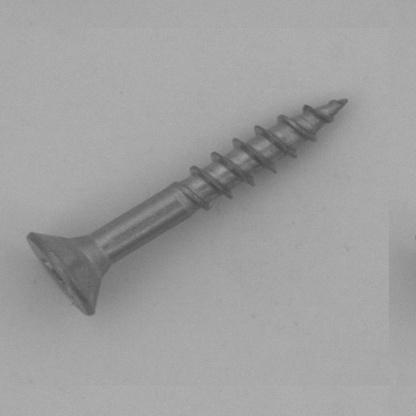metal: (26, 97, 348, 316)
